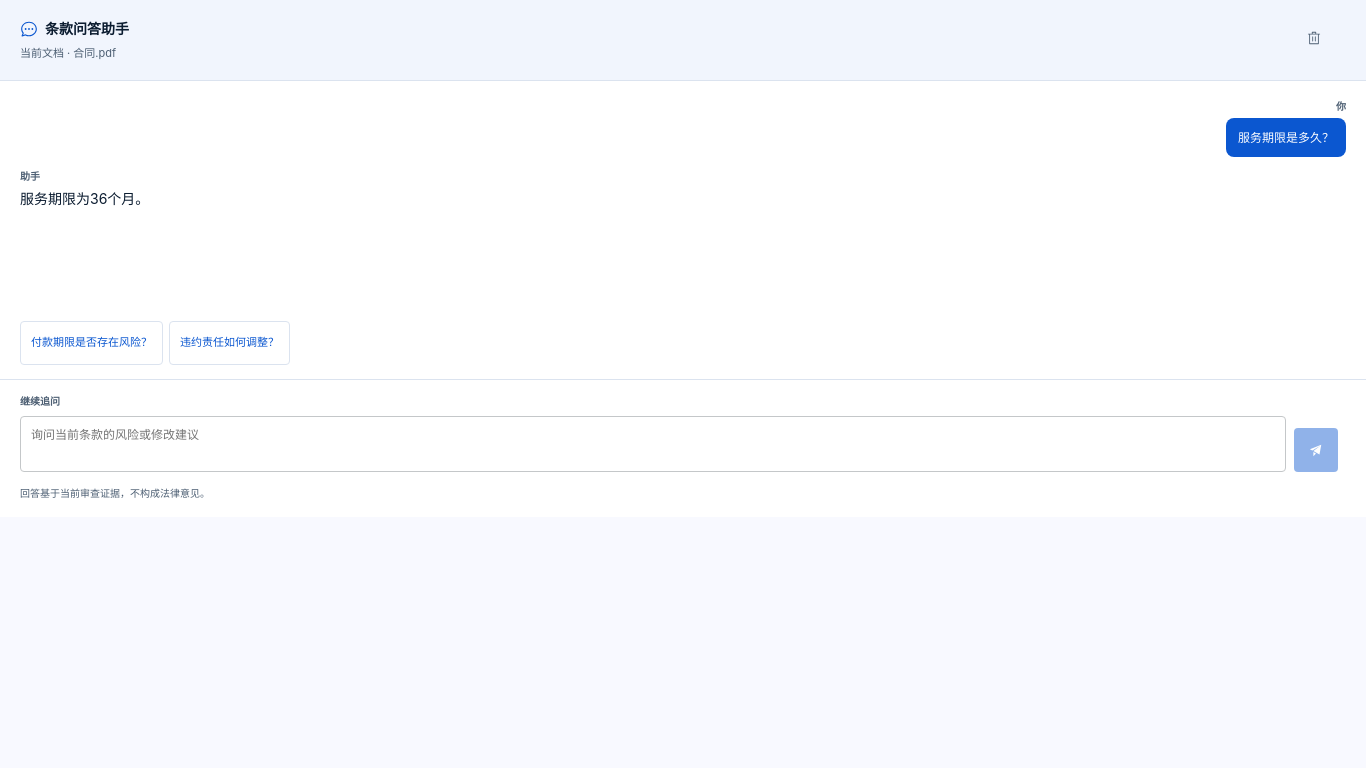
Test: ReviewAssistant › reuses the snapshot conversation and reconciles messages after a terminal event
This screenshot has width=1366, height=768.
Step 1. Type "追问" into the text box with test id "assistant-input" → (653, 444), box top-left (20, 416), bottom-right (1286, 472)
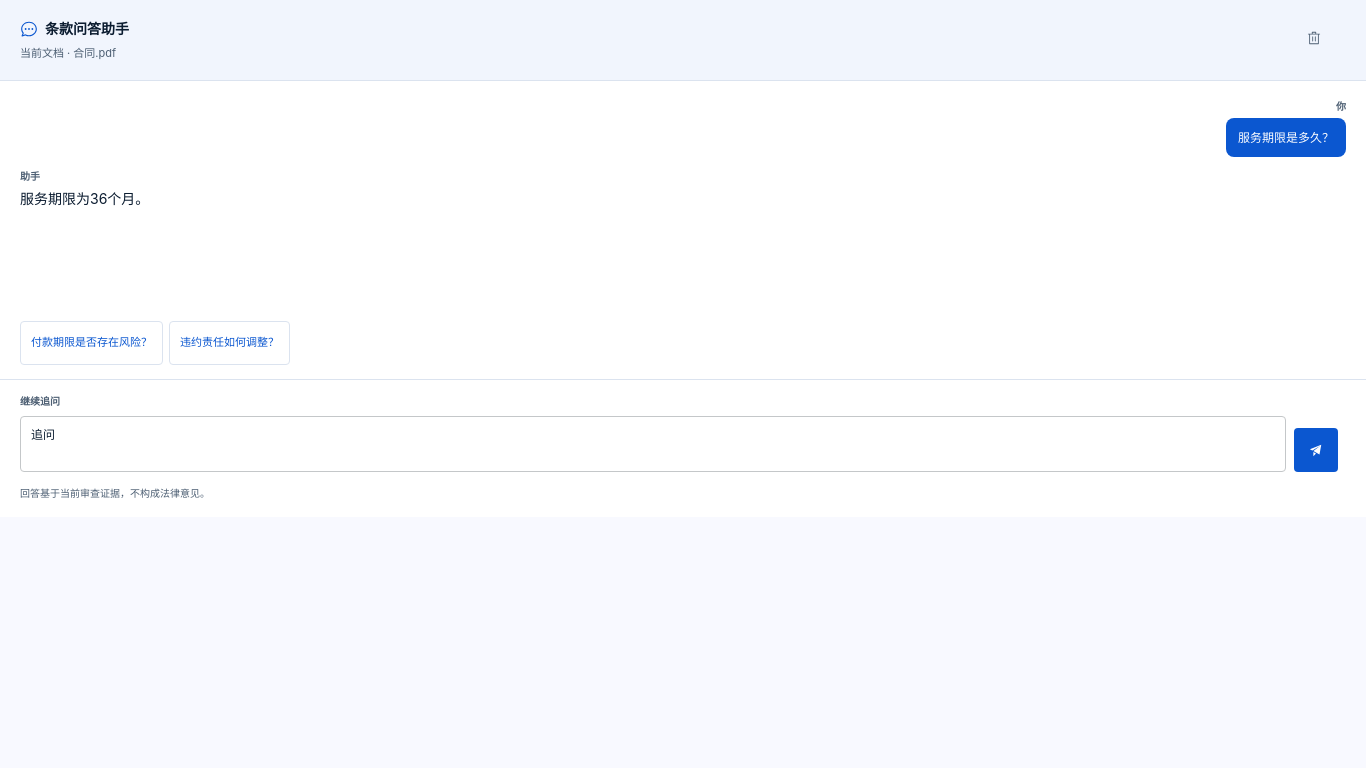
Step 2. Click the button with test id "assistant-send" → (1316, 450), box top-left (1294, 428), bottom-right (1338, 472)
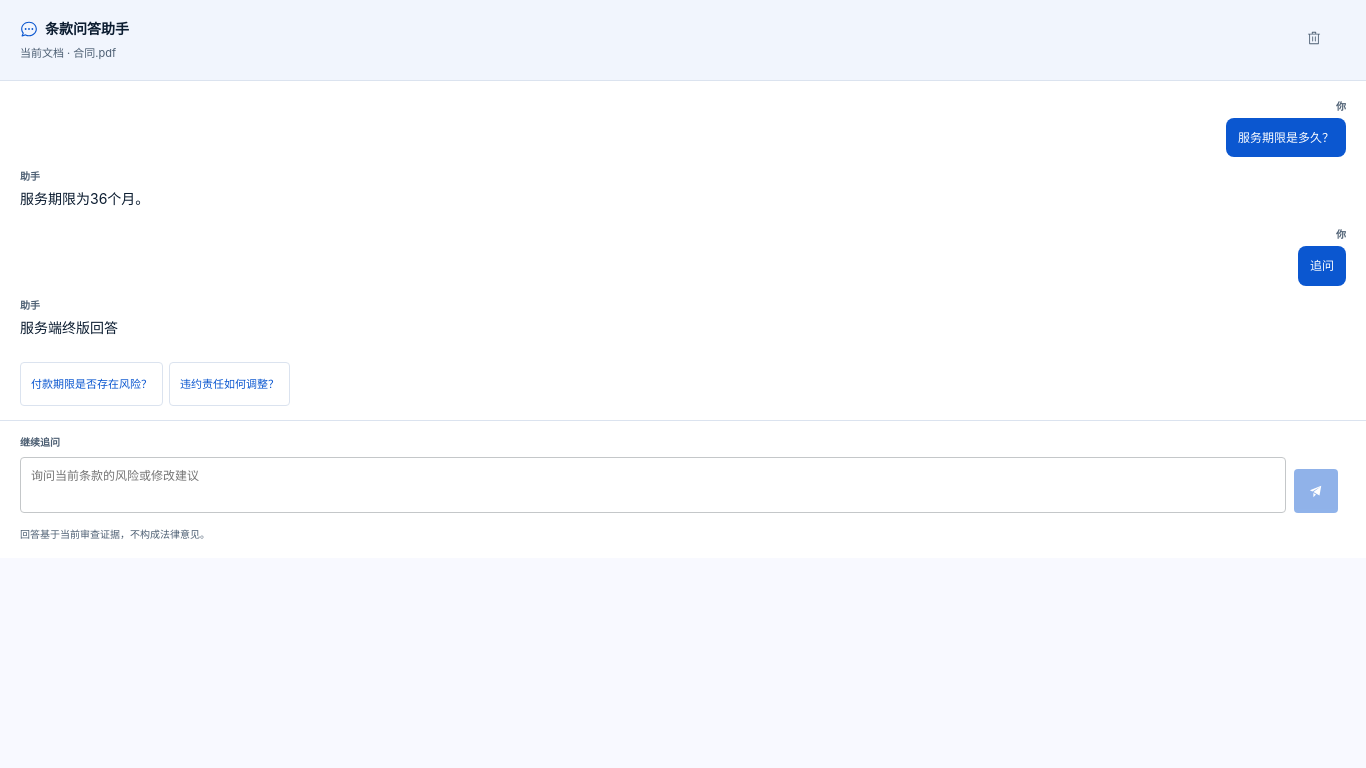
Now the text "服务端终版回答" is shown, box top-left (20, 319), bottom-right (118, 336)
